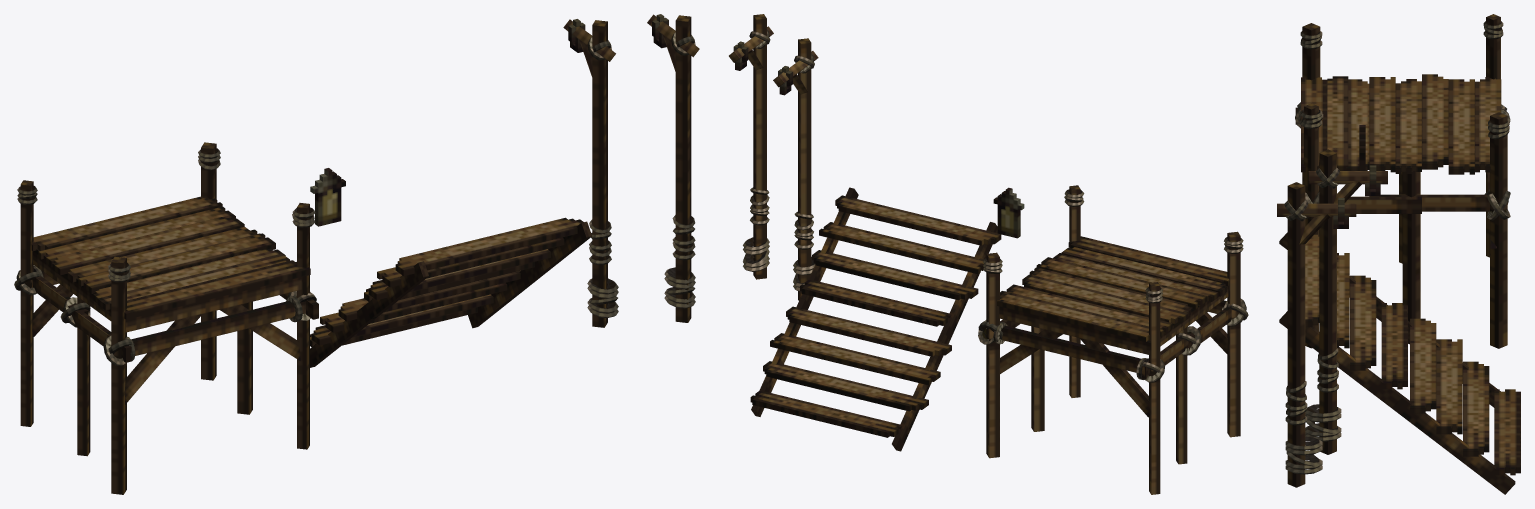
The model's file is EnvObjMD_Canoedock_A_Base.FBX.
The picture shows the model from 3 angles, left to right: view 1: azimuth 30°, elevation 25°; view 2: azimuth 150°, elevation 25°; view 3: azimuth 270°, elevation 25°; orthographic projection. The views are drawn at different scales.
Parts seen in each view (by area): view 1: EnvObjMD_Canoedock_A_Base, EnvObjMD_Canoedock_A_Step, EnvObjMD_Canoedock_A_Lamppole_Rev, EnvObjMD_Canoedock_A_Lamppole, EnvObjMD_Canoedock_A_Lamp; view 2: EnvObjMD_Canoedock_A_Base, EnvObjMD_Canoedock_A_Step, EnvObjMD_Canoedock_A_Lamppole_Rev, EnvObjMD_Canoedock_A_Lamppole, EnvObjMD_Canoedock_A_Lamp; view 3: EnvObjMD_Canoedock_A_Base, EnvObjMD_Canoedock_A_Step, EnvObjMD_Canoedock_A_Lamppole_Rev, EnvObjMD_Canoedock_A_Lamppole, EnvObjMD_Canoedock_A_Lamp.
Boxes of the visible parts, x1,y1,x2,y2 form: EnvObjMD_Canoedock_A_Base: (14, 142, 318, 494); EnvObjMD_Canoedock_A_Step: (310, 217, 591, 367); EnvObjMD_Canoedock_A_Lamppole_Rev: (647, 14, 699, 322); EnvObjMD_Canoedock_A_Lamppole: (563, 19, 618, 327); EnvObjMD_Canoedock_A_Lamp: (310, 168, 345, 226); EnvObjMD_Canoedock_A_Base: (978, 185, 1248, 494); EnvObjMD_Canoedock_A_Step: (750, 187, 1001, 451); EnvObjMD_Canoedock_A_Lamppole_Rev: (729, 14, 773, 279); EnvObjMD_Canoedock_A_Lamppole: (773, 38, 818, 300); EnvObjMD_Canoedock_A_Lamp: (993, 187, 1024, 238); EnvObjMD_Canoedock_A_Base: (1295, 14, 1510, 348); EnvObjMD_Canoedock_A_Step: (1279, 232, 1520, 494); EnvObjMD_Canoedock_A_Lamppole_Rev: (1277, 182, 1356, 487); EnvObjMD_Canoedock_A_Lamppole: (1305, 149, 1387, 454); EnvObjMD_Canoedock_A_Lamp: (1359, 125, 1365, 170).
Size of the model in its own units: 633 by 374 by 231.
1 material, 1 textured.
